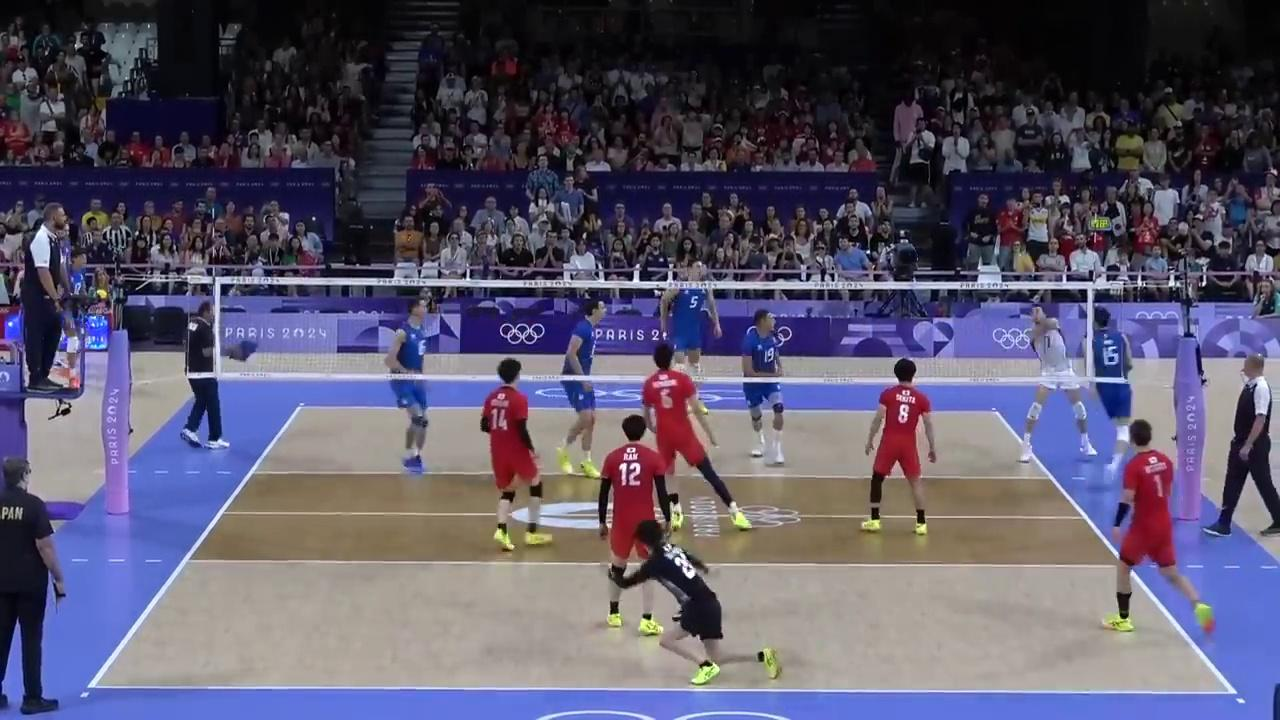ball: (1016, 253, 1034, 276)
